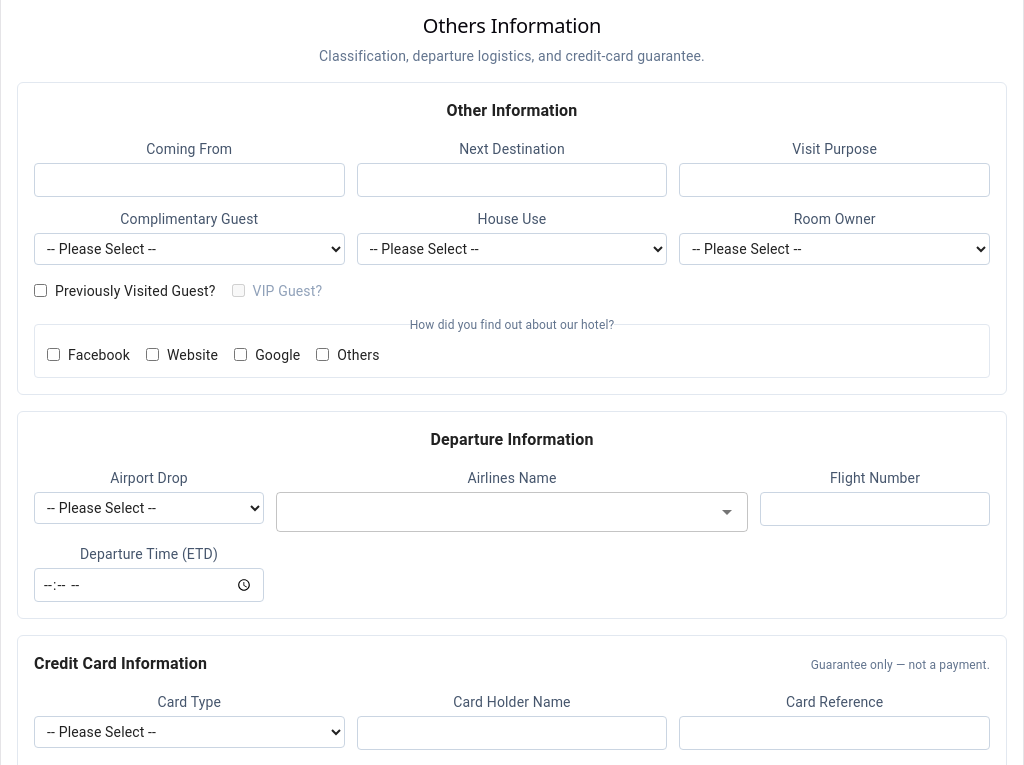
Test: OthersInformationTab — Section C (card) › PCI property: after successful tokenize, full state JSON contains no raw PAN
The width and height of the screenshot is (1024, 765).
Select "Visa Card" in the dropdown with test id "card-type" at (189, 732), box [34,716,345,748]
(page scrolled)
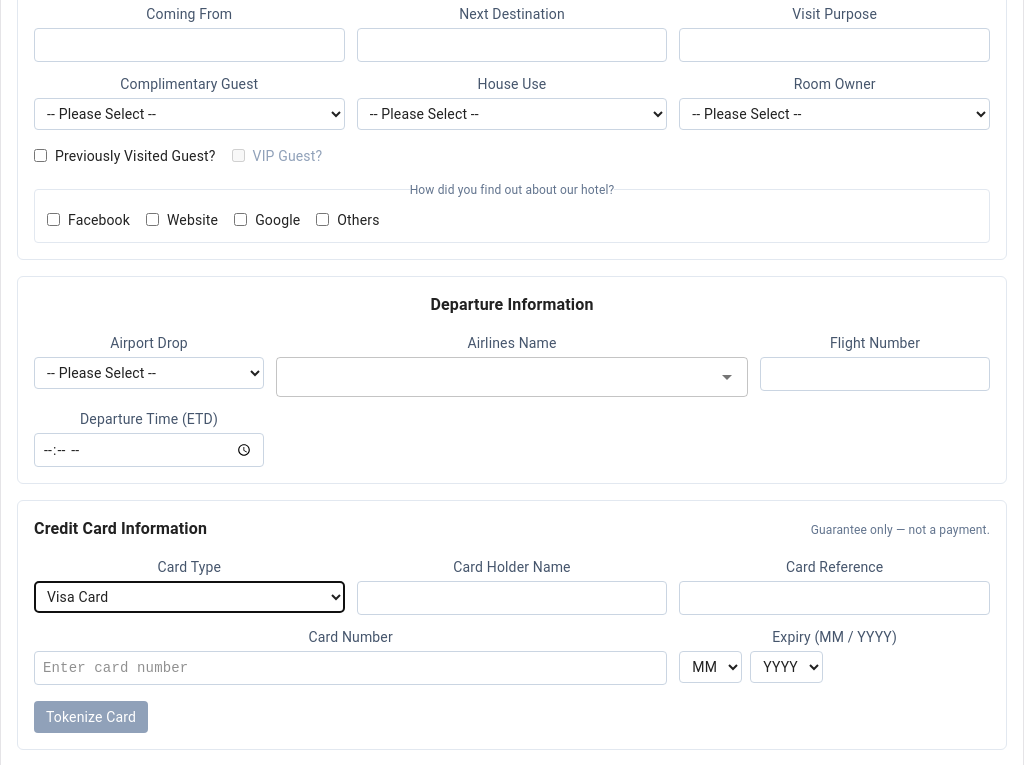
Type "4242424242424242" into the field with test id "card-number-input".
click(351, 668); type("4242424242424242")  # box [34,651,667,685]
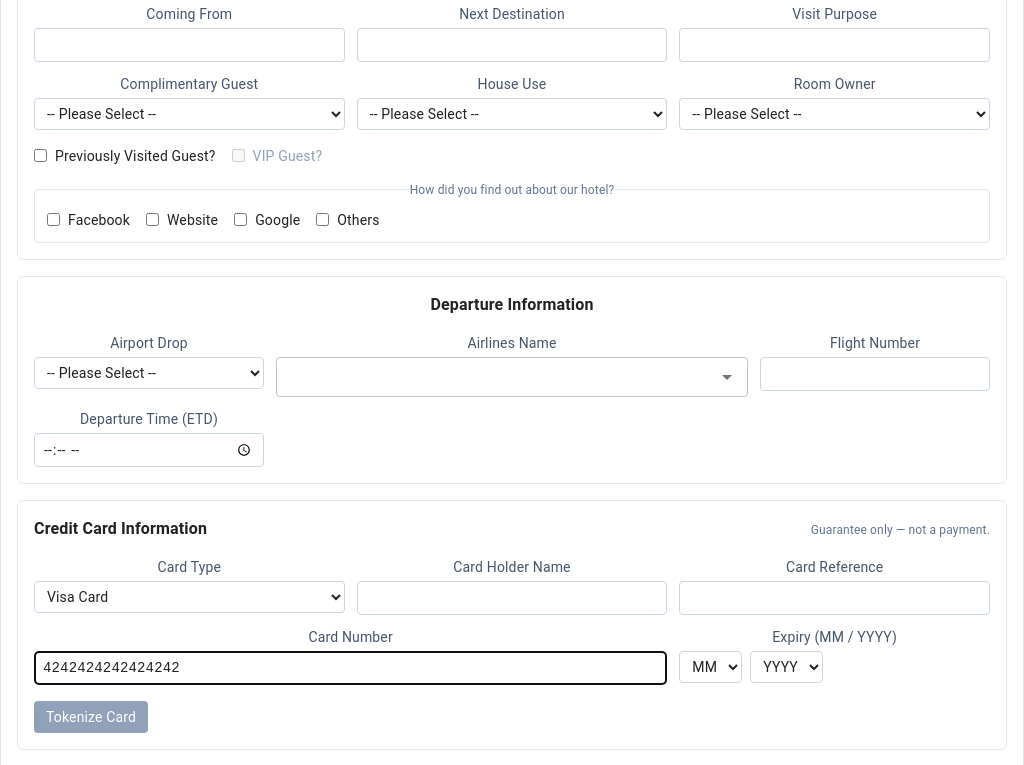
Select "12" in the dropdown with test id "expiry-month" at (711, 667), box [679,651,742,683]
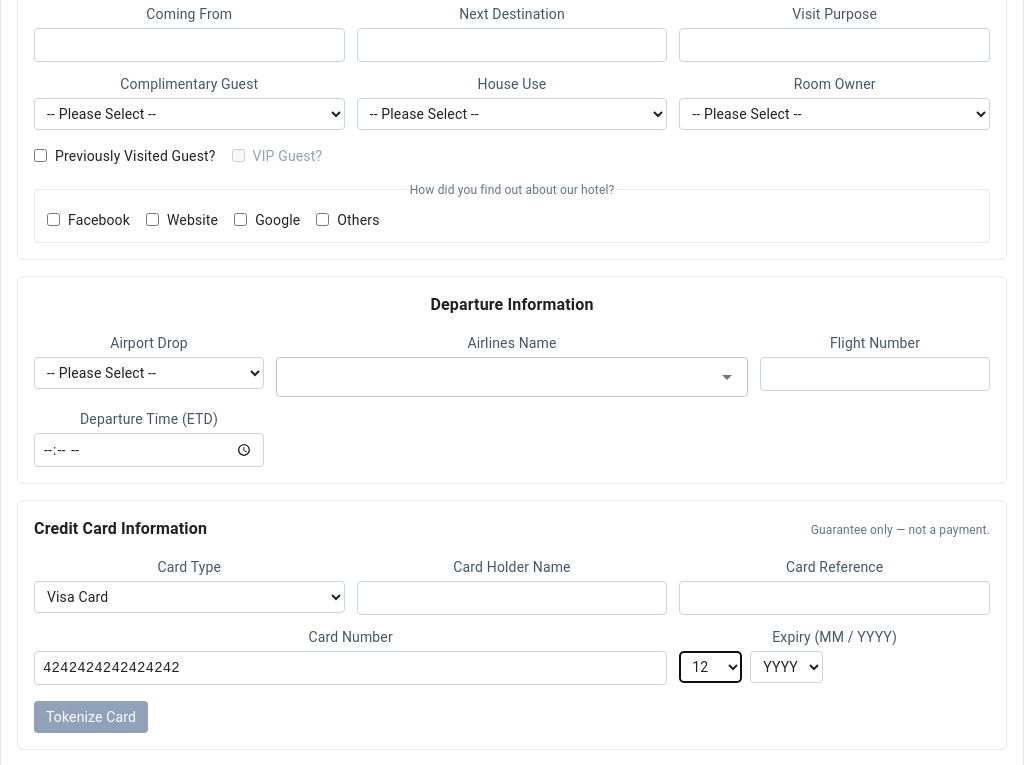
Select "2030" in the dropdown with test id "expiry-year" at (787, 667), box [750,651,823,683]
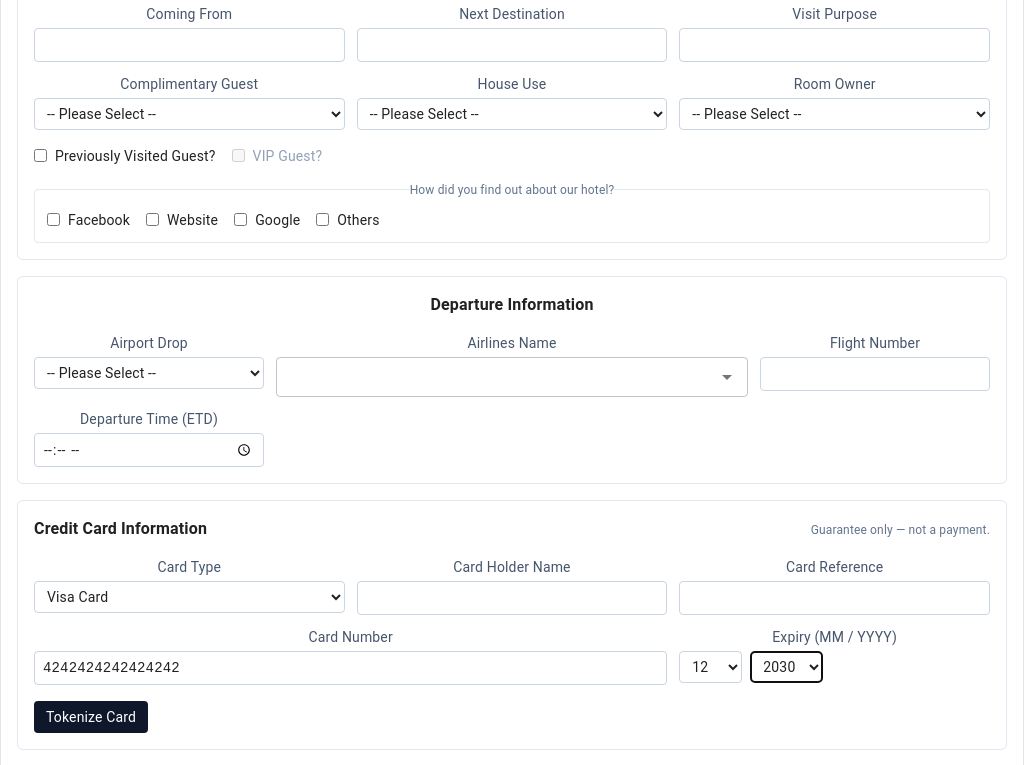
Click the button with test id "card-tokenize".
click(91, 717)  # box [34,701,148,733]
(page scrolled)
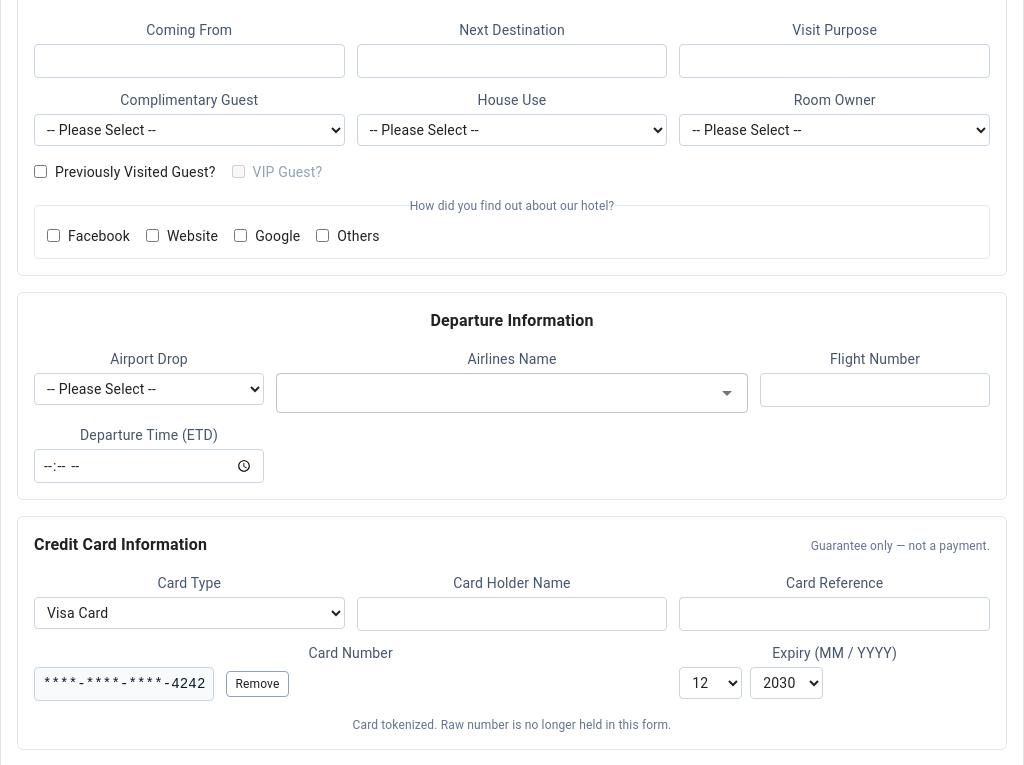
Expected: the text "****-****-****-4242" is shown, [34,667,214,701]
